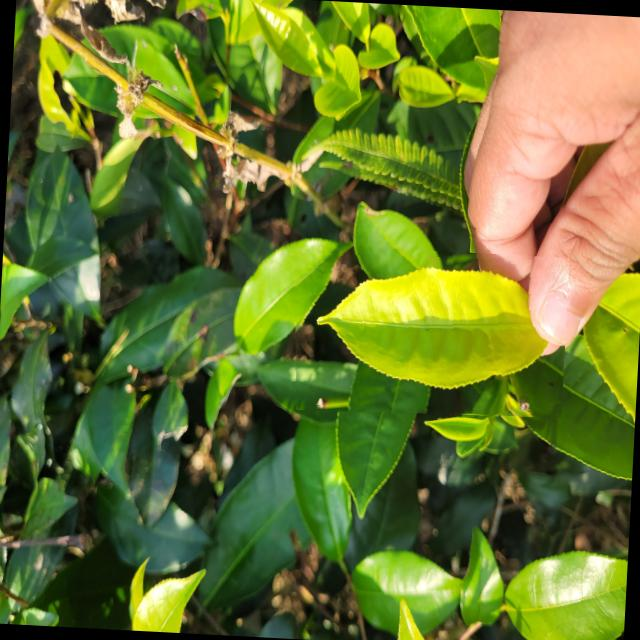Category B(2-4 days): (286, 242, 570, 422)
